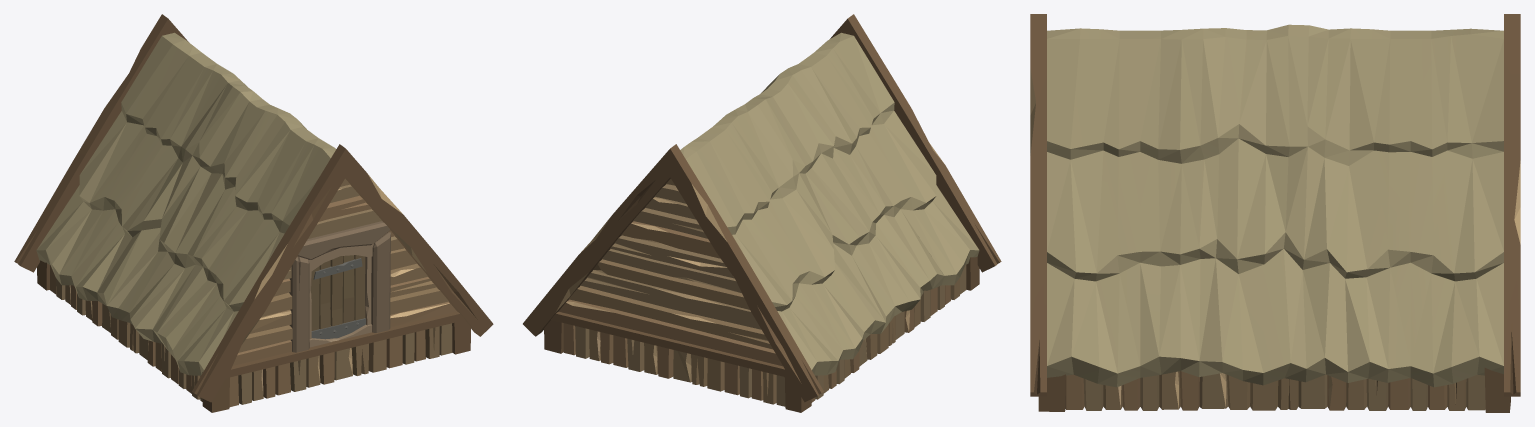
Rendered from rpghouse2.obj.
3 views of the same model, side by side, from view 1: azimuth 30°, elevation 25°; view 2: azimuth 150°, elevation 25°; view 3: azimuth 270°, elevation 25° (orthographic). The views are drawn at different scales.
Parts seen in each view (by area): view 1: rpgpp_lt_building_02; view 2: rpgpp_lt_building_02; view 3: rpgpp_lt_building_02.
Part boxes in pixels (<box>): rpgpp_lt_building_02: <box>14,14,493,412</box>; rpgpp_lt_building_02: <box>523,14,1001,412</box>; rpgpp_lt_building_02: <box>1030,14,1520,412</box>.
Bounding box in the file's own units: 8.41 × 6.41 × 9.06.
Materials: 1 (1 with a texture image).
